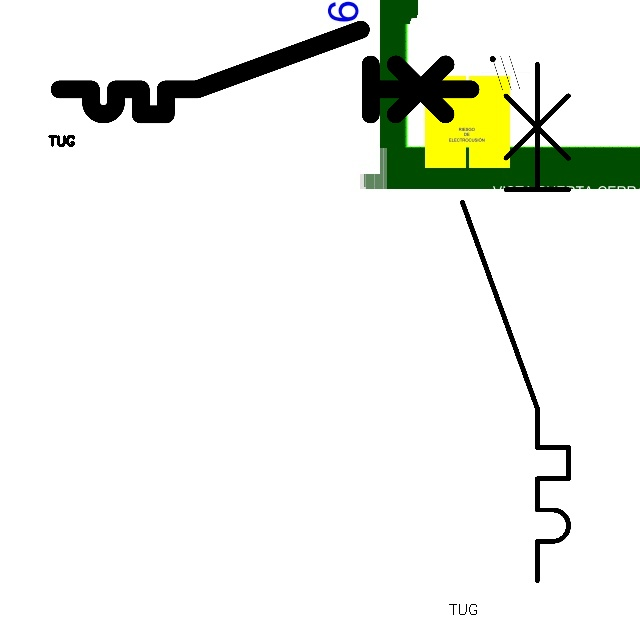interruptor_termomagnetico: (449, 51, 582, 594), (49, 19, 481, 125)
